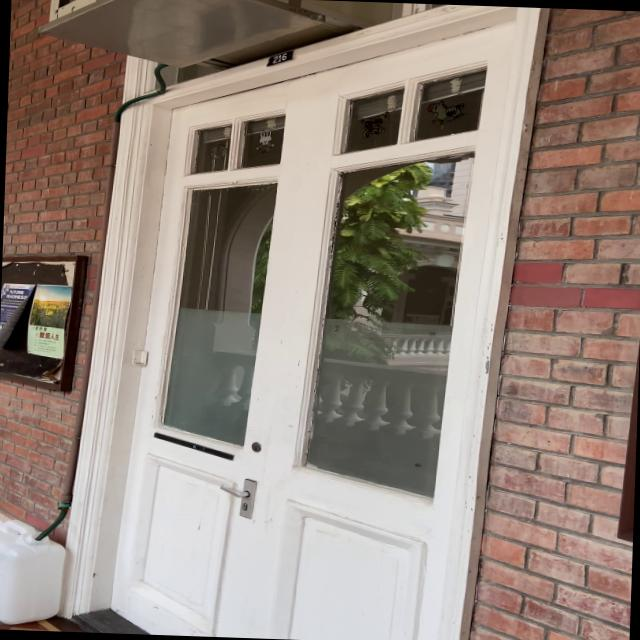room216: (266, 48, 294, 68)
